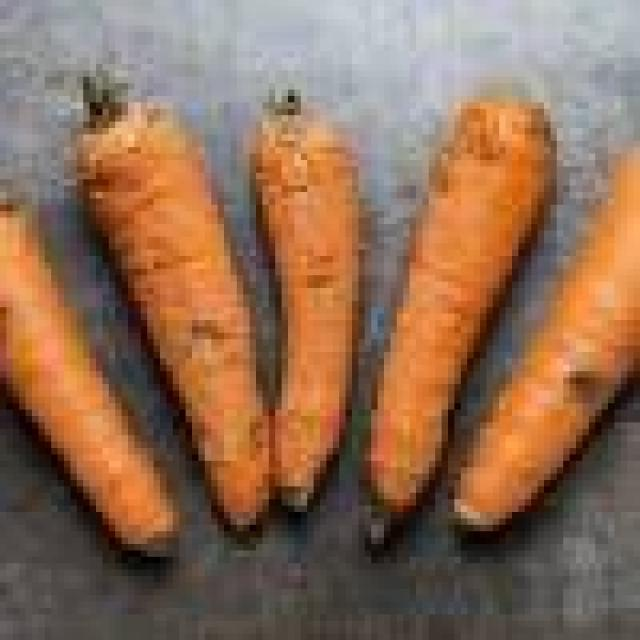Stale_Carrot: (44, 86, 324, 515), (448, 53, 597, 504), (264, 92, 368, 494)
